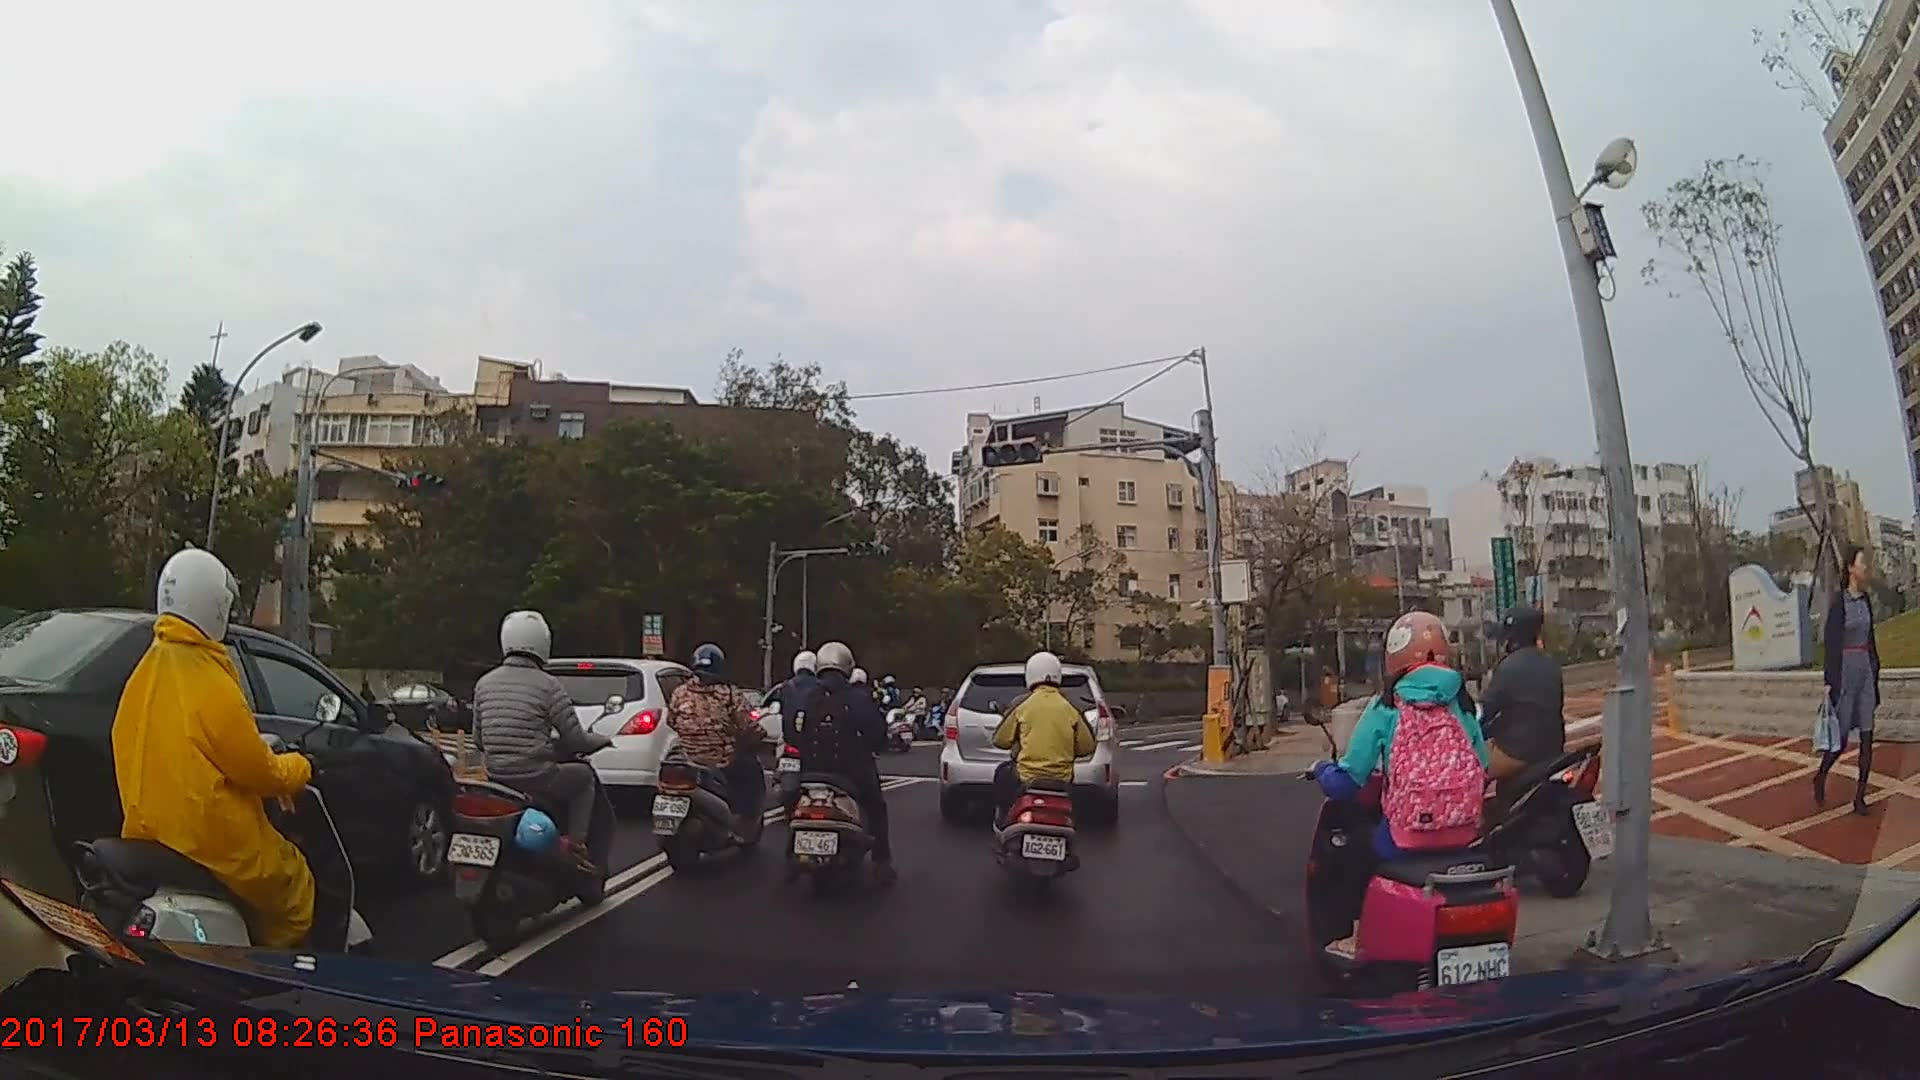pedestrian: (1828, 546, 1895, 813)
rider: (73, 544, 375, 1007), (1311, 612, 1524, 1006), (446, 606, 619, 952), (1427, 613, 1598, 902), (780, 639, 901, 905), (650, 642, 775, 877), (992, 649, 1100, 897), (770, 648, 844, 819)
vehicle: (0, 605, 462, 948), (517, 657, 751, 817), (935, 662, 1121, 823), (370, 681, 476, 731)
